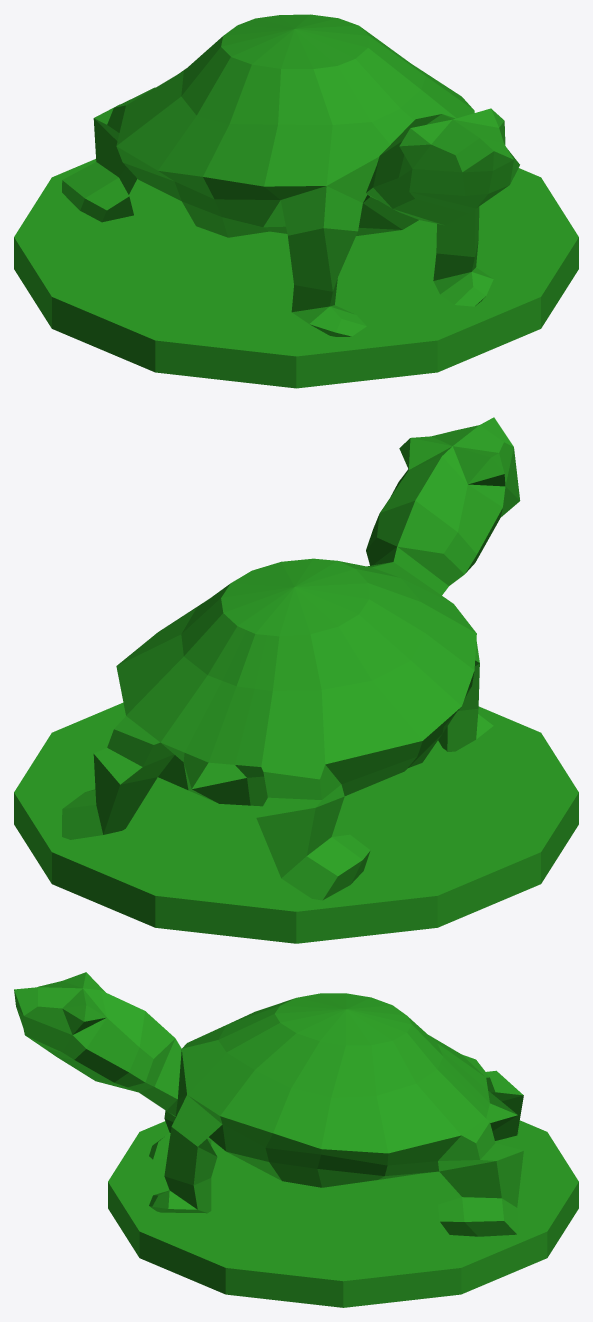
Rendered from pawn_turtoise.glb.
The picture shows the model from 3 angles, top to bottom: view 1: azimuth 30°, elevation 25°; view 2: azimuth 150°, elevation 25°; view 3: azimuth 270°, elevation 25°; orthographic projection. The views are drawn at different scales.
Parts seen in each view (by area): view 1: Sphere, Socle.Turtoise; view 2: Sphere, Socle.Turtoise; view 3: Sphere, Socle.Turtoise.
Part boxes in pixels (x1,y1,x2,y2): Sphere: (62,14,519,336); Socle.Turtoise: (14,159,578,388); Sphere: (62,417,520,900); Socle.Turtoise: (14,702,578,943); Sphere: (14,972,523,1236); Socle.Turtoise: (108,1120,578,1307).
Bounding box in the file's own units: 4 × 2.07 × 4.8.
